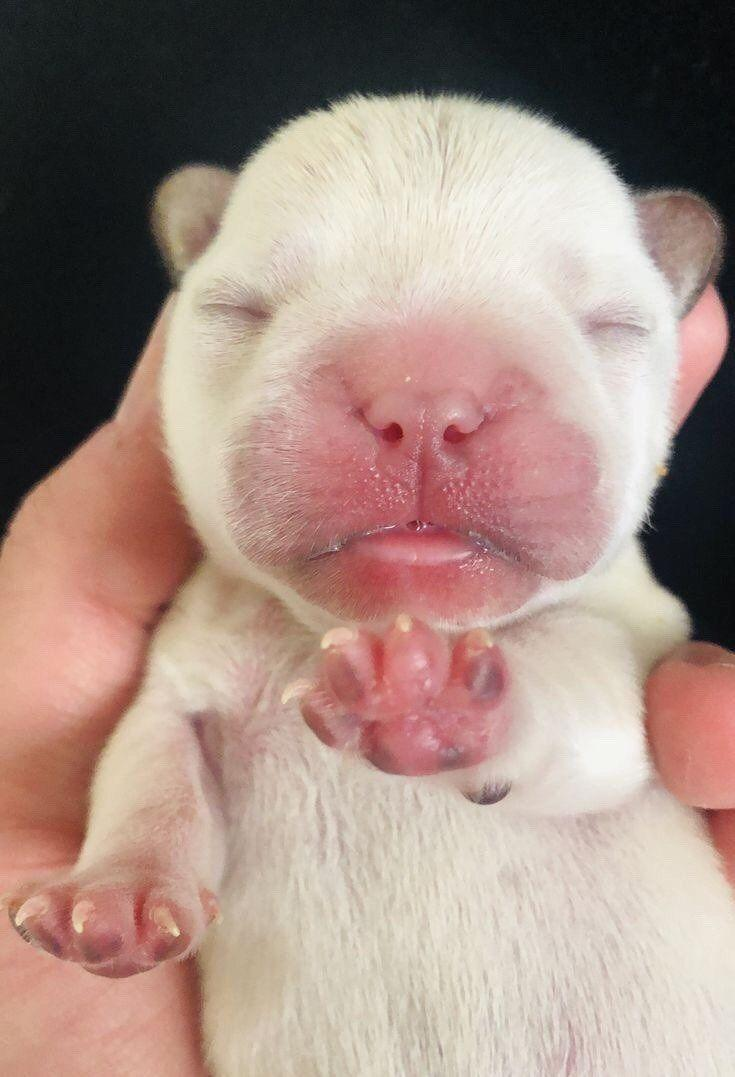puppy-dog: (9, 78, 735, 1077)
